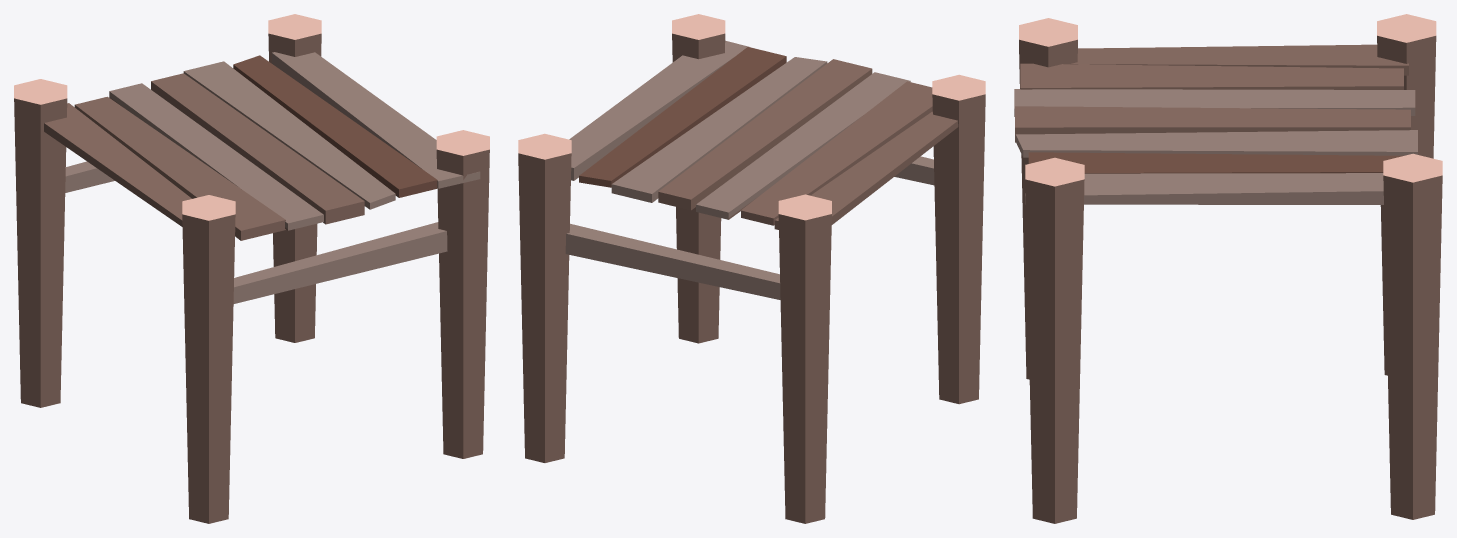
File: Building_004.glb
The picture shows the model from 3 angles, left to right: view 1: azimuth 30°, elevation 25°; view 2: azimuth 150°, elevation 25°; view 3: azimuth 270°, elevation 25°; orthographic projection. The views are drawn at different scales.
Parts seen in each view (by area): view 1: Building_004; view 2: Building_004; view 3: Building_004.
Boxes of the visible parts, left/top/right/bottom form: Building_004: left=14, top=14, right=489, bottom=523; Building_004: left=518, top=14, right=985, bottom=523; Building_004: left=1014, top=14, right=1442, bottom=523.
Size of the model in its own units: 4.32 by 3.98 by 4.53.
Materials: 1 (1 with a texture image).
